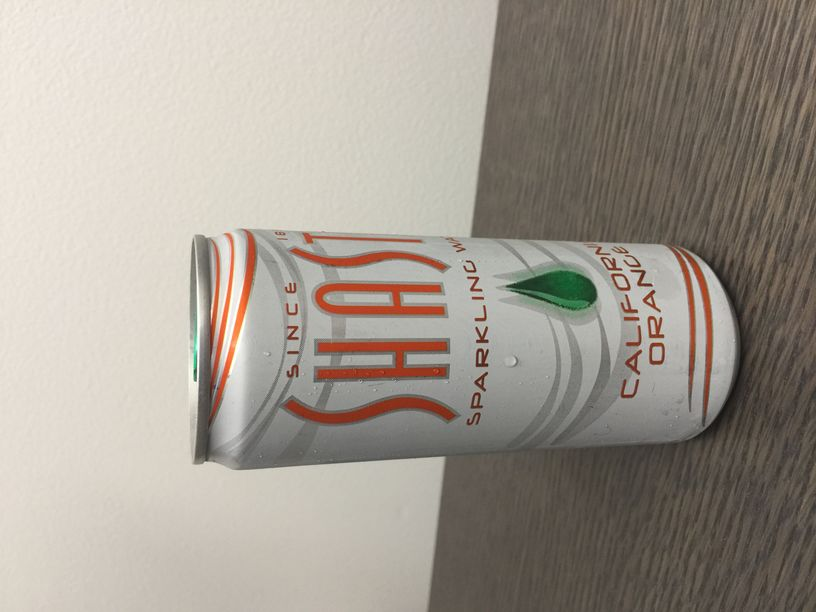competitor_01: (187, 227, 740, 471)
